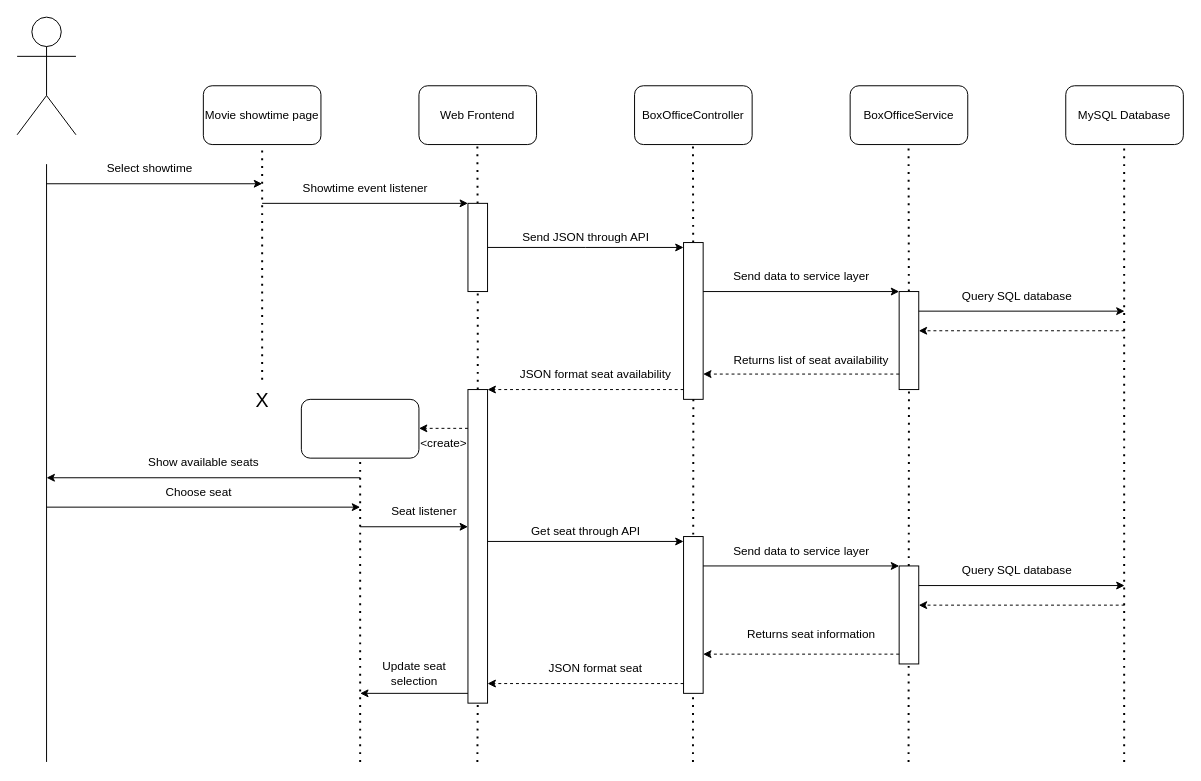
The diagram is 1201 pixels wide and 781 high, and some of its shapes have lost their labels. The centre of each missing label's shape, as x and y in pixels:
"Seat map page" belongs at point 359,428.
"User" belongs at point 46,75.
